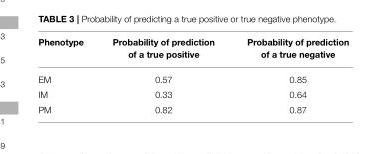table: (37, 37, 348, 114)
table column: (97, 37, 230, 114), (230, 37, 348, 114), (37, 37, 97, 114)
table column header: (37, 37, 348, 66)
table row: (37, 37, 348, 66), (37, 66, 348, 87), (37, 87, 348, 102), (37, 102, 348, 114)
